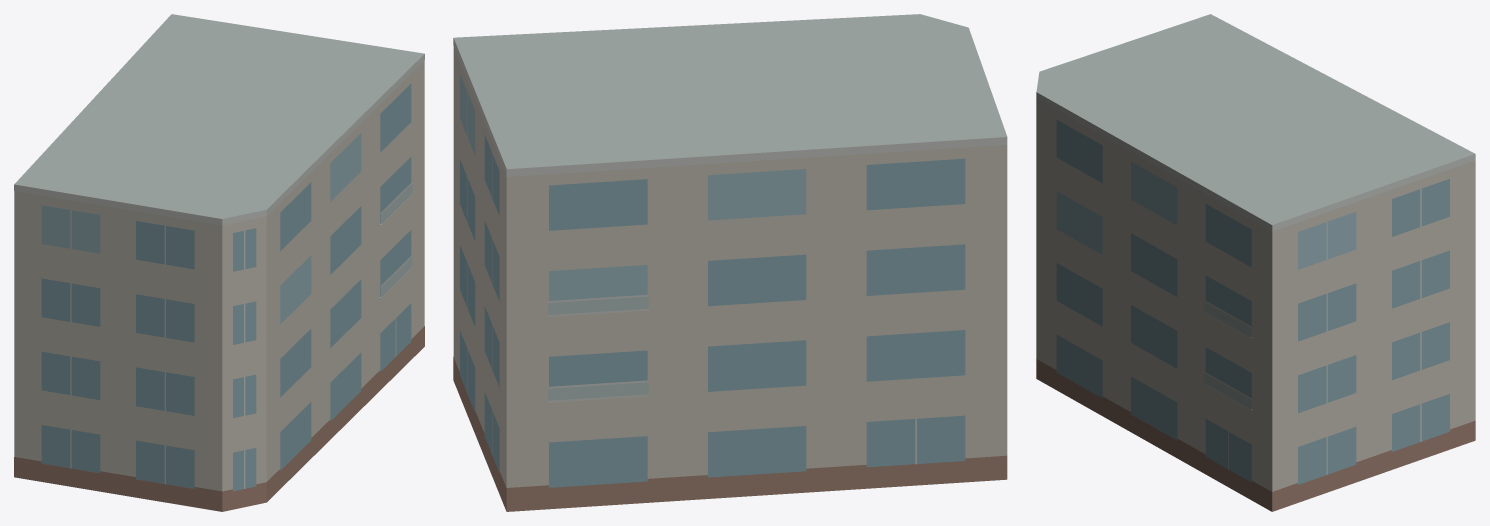
Rendered from survey-upis-32931485.glb.
3 renders of one model, left to right at view 1: azimuth 30°, elevation 25°; view 2: azimuth 150°, elevation 25°; view 3: azimuth 270°, elevation 25°, orthographic. The views are drawn at different scales.
Parts seen in each view (by area): view 1: survey-upis-32931485.tmp; view 2: survey-upis-32931485.tmp; view 3: survey-upis-32931485.tmp.
Boxes of the visible parts, x1,y1,x2,y2 form: survey-upis-32931485.tmp: (14,14,424,511); survey-upis-32931485.tmp: (453,14,1007,511); survey-upis-32931485.tmp: (1036,14,1475,511).
Size of the model in its own units: 17.23 by 10.9 by 15.14.
